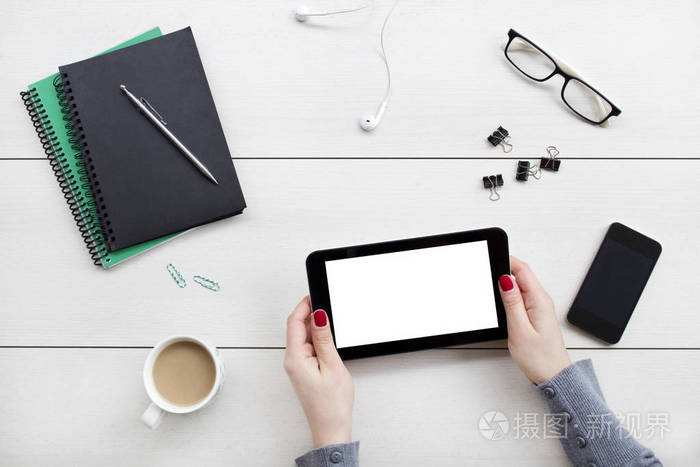pad: (263, 223, 568, 402)
